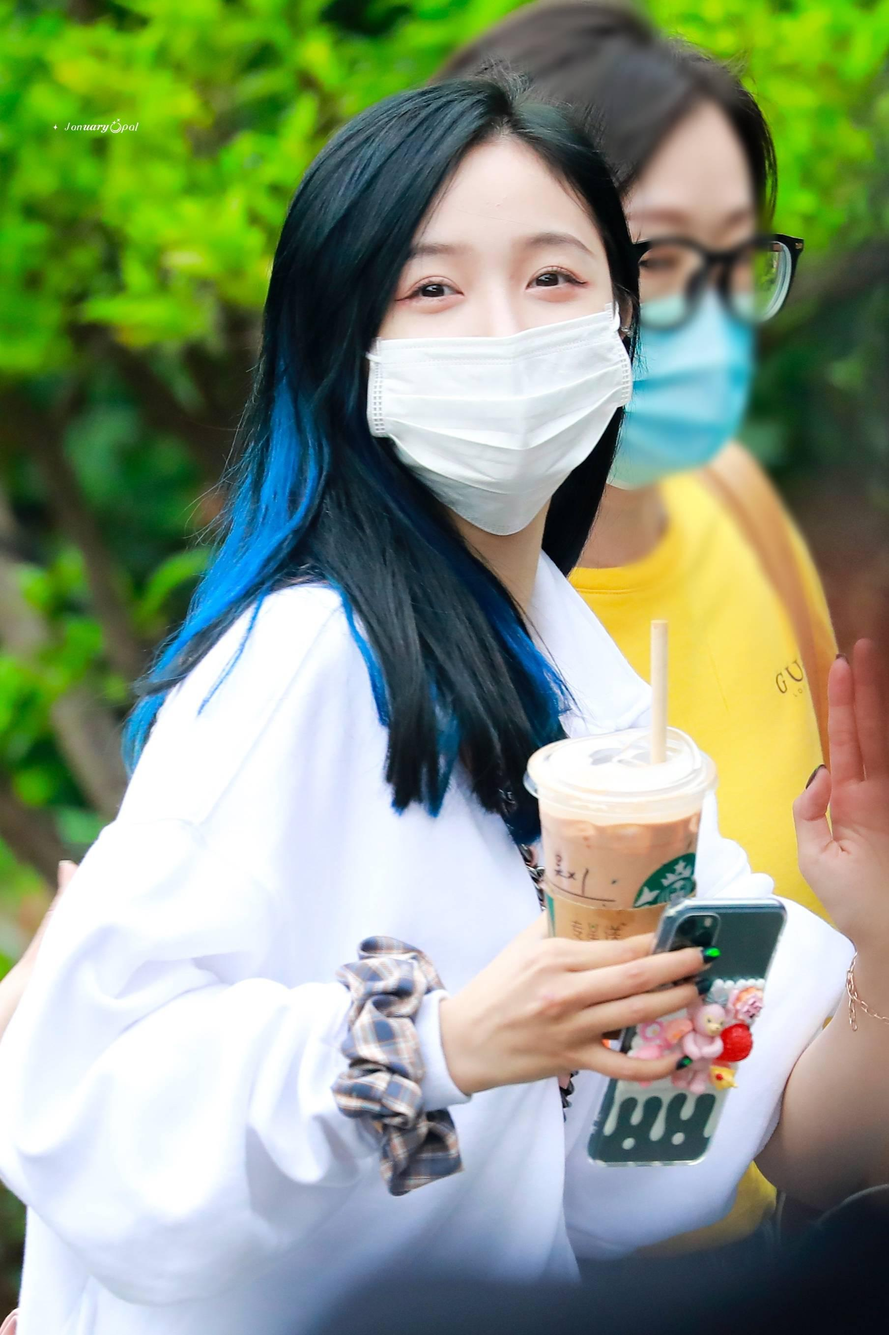OK: (372, 206, 631, 537), (606, 187, 758, 492)
